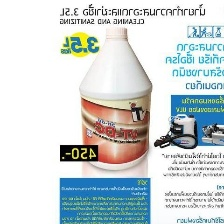cleaning_solution: (75, 25, 154, 172)
